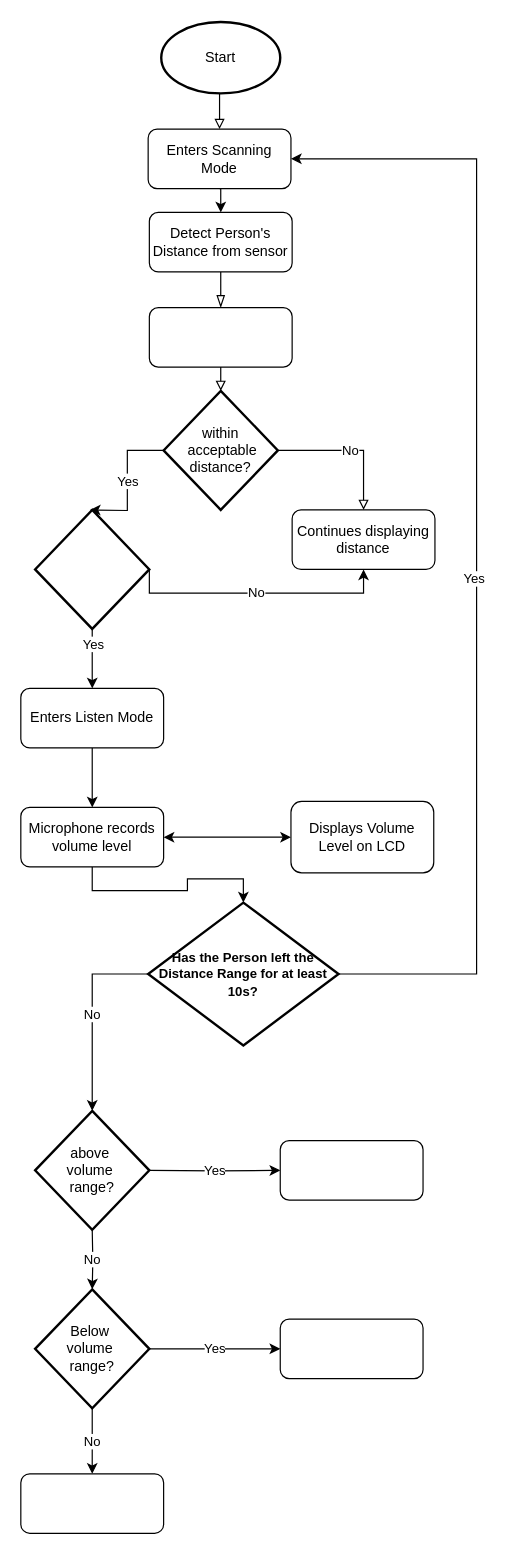
This 507x1554 diagram has some shape labels left out. Here are the shapes that lost their labels. From the top down, the box of each, then its label:
(148, 306, 292, 367): Displays Distance on LCD Display
(33, 508, 150, 630): Within Distance range for 3 Seconds?
(279, 1139, 423, 1200): LED Light Flashes a Solid Red
(279, 1318, 423, 1379): LED light flashes a blinking green light
(20, 1473, 164, 1533): LED Light Flashes a Solid Green Light
